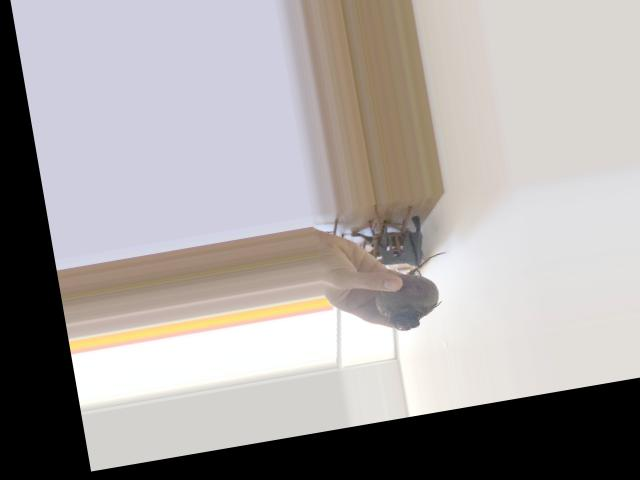beet: (369, 250, 460, 334)
